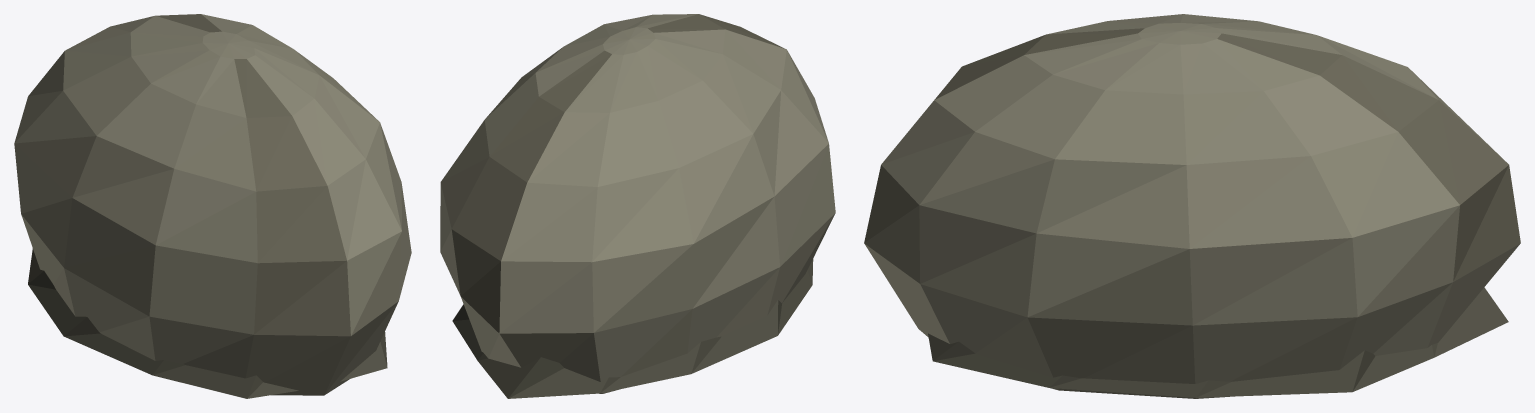
File: cocoon_spelopede_1.obj
3 renders of one model, left to right at view 1: azimuth 30°, elevation 25°; view 2: azimuth 150°, elevation 25°; view 3: azimuth 270°, elevation 25°, orthographic. The views are drawn at different scales.
Visible parts, largest first — view 1: cocoon_spelopede_1; view 2: cocoon_spelopede_1; view 3: cocoon_spelopede_1.
Part boxes in pixels (x1=…): cocoon_spelopede_1: x1=14, y1=14, x2=411, y2=398; cocoon_spelopede_1: x1=440, y1=14, x2=835, y2=398; cocoon_spelopede_1: x1=864, y1=14, x2=1520, y2=398.
Size of the model in its own units: 0.5164 by 0.44 by 0.8511.
